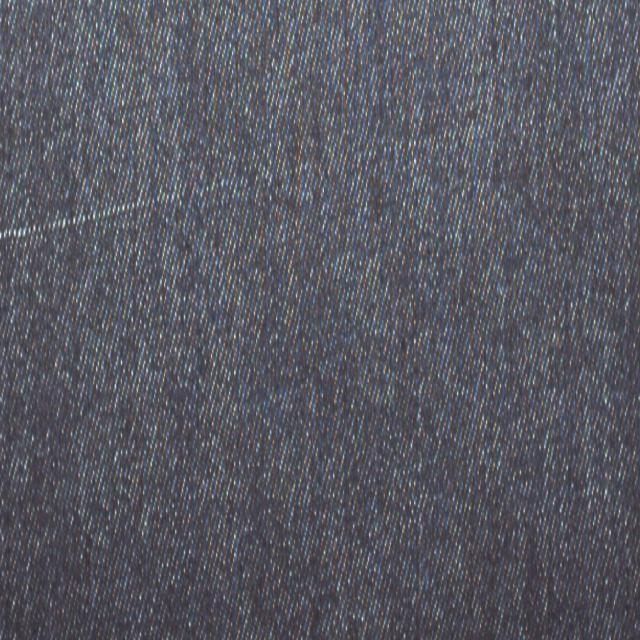Line: (0, 108, 513, 257)
